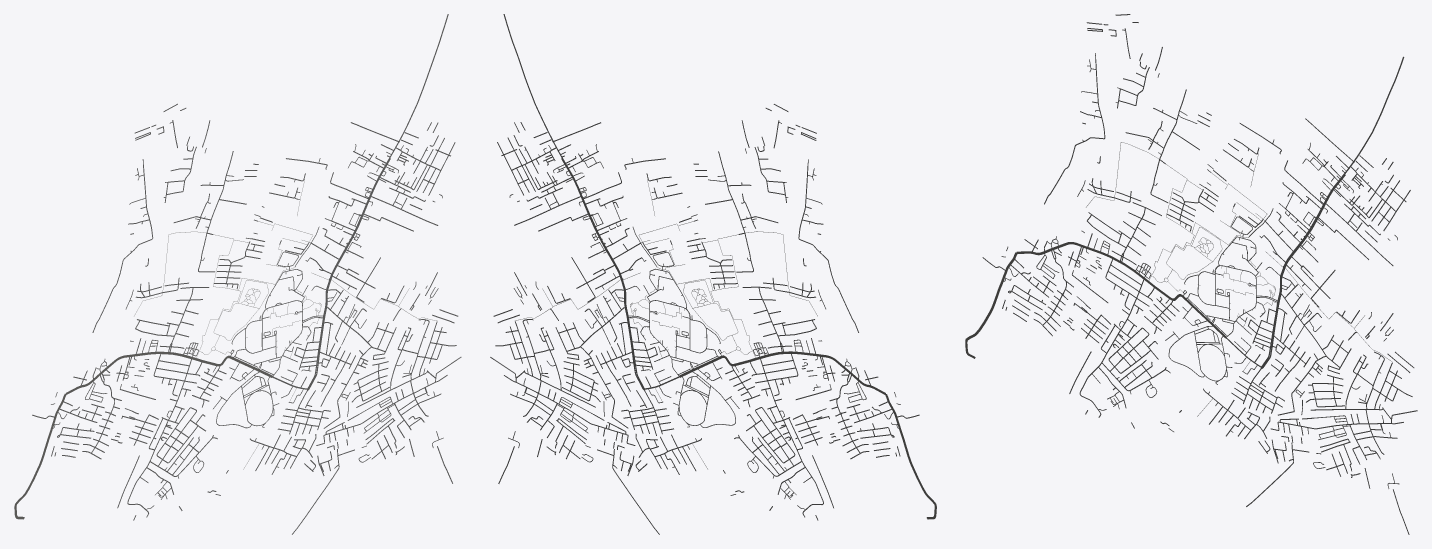
Rendered from roads_2_2.obj.
3 views of the same model, side by side, from view 1: azimuth 30°, elevation 25°; view 2: azimuth 150°, elevation 25°; view 3: azimuth 330°, elevation 25° (orthographic).
Bounding box in the file's own units: 2857 × 2951 × 6.46.
6 materials, 6 textured.
